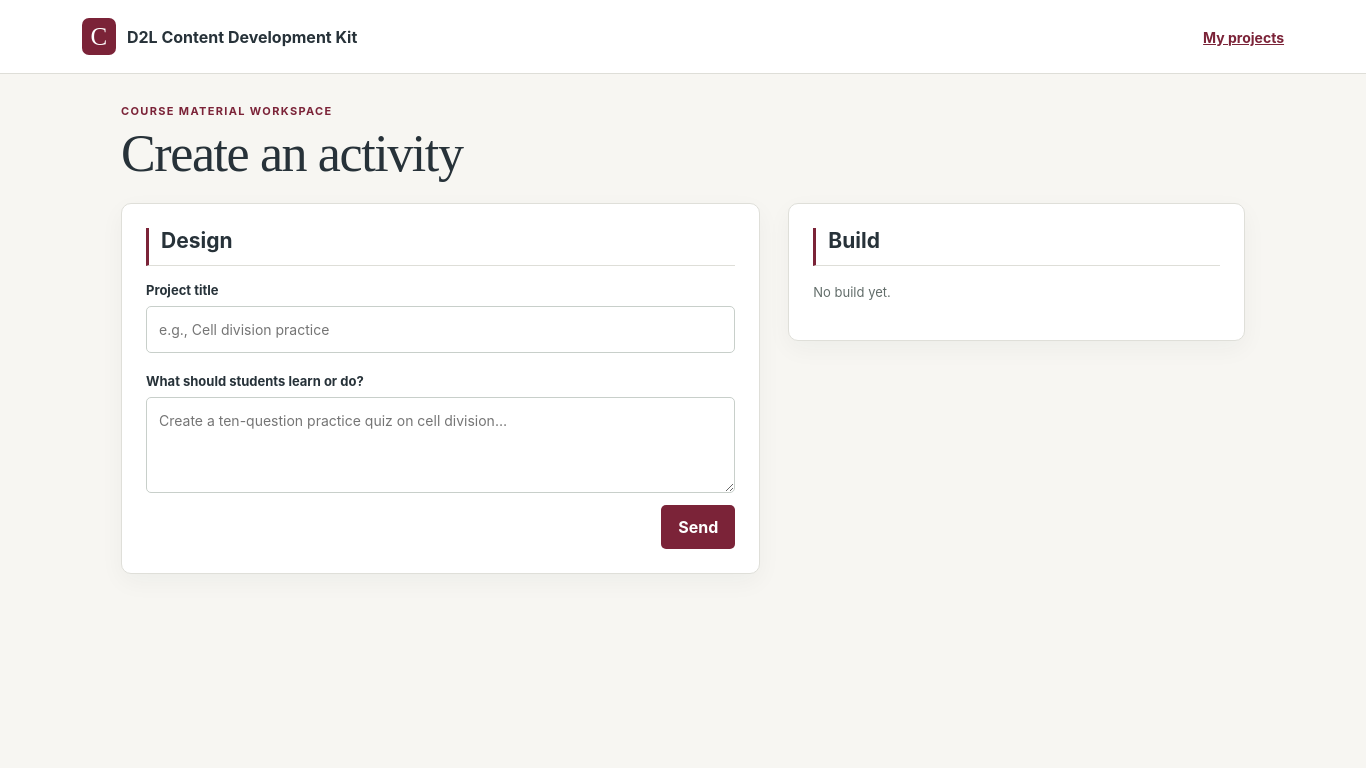
Test case: F10 conversation › starts from the chat and requires a title and request
Expected: the element "Design" is shown, 121,203 -> 760,574
Click the button "Send".
click(698, 527)  # box 661,505 -> 735,549
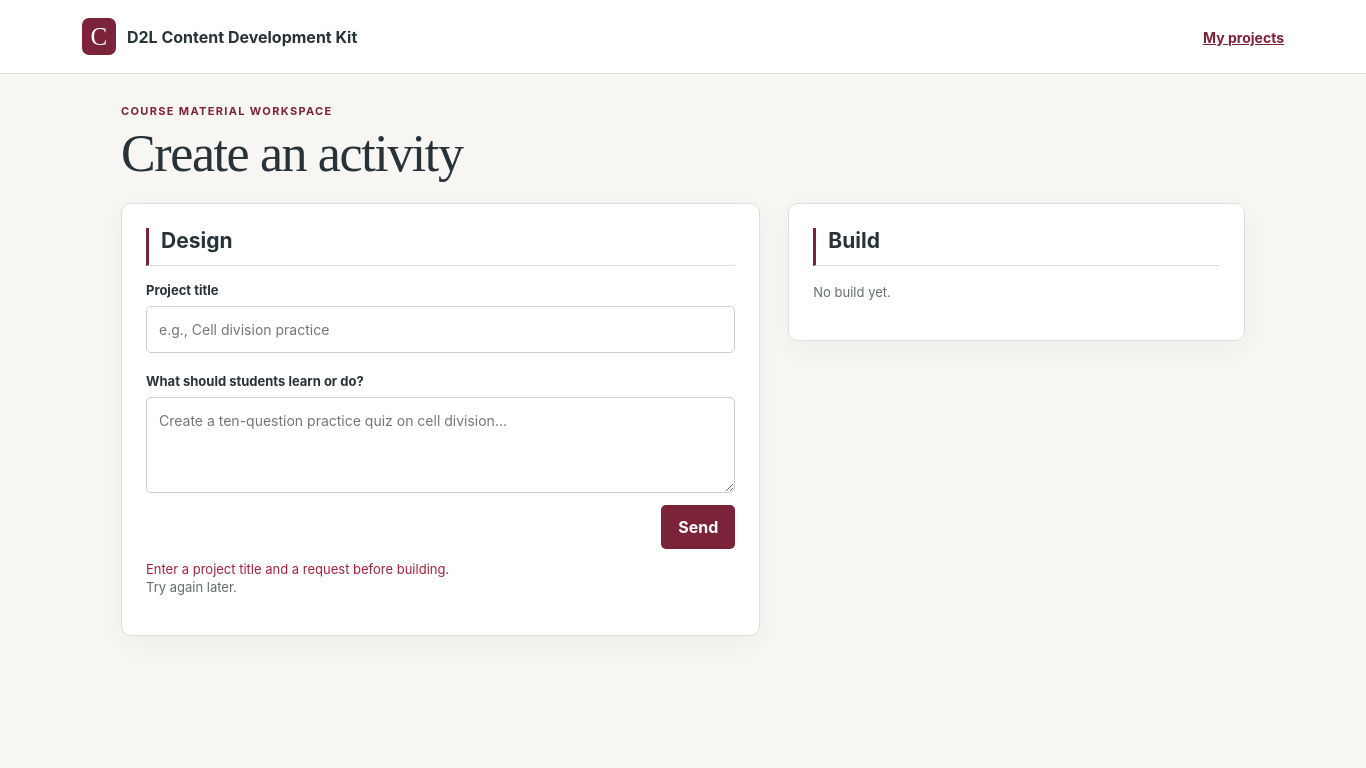
Expected: the message shows "Enter a project title and a request", 146,561 -> 449,577
